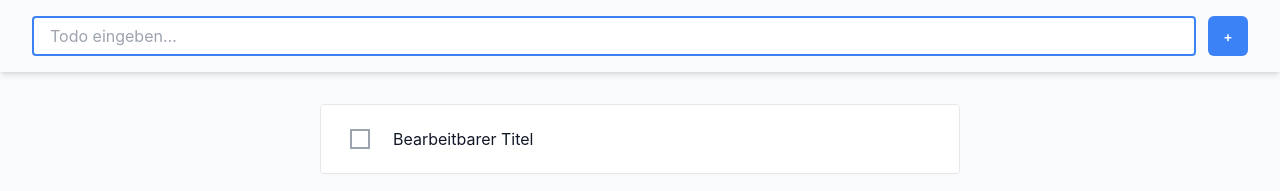
FEAT-4 – Todo bearbeiten (Inline-Editing) › Doppelklick auf Titel öffnet Inline-Input
Double-click the button "Bearbeitbarer Titel".
double_click(463, 139)  # box [393, 129, 534, 149]
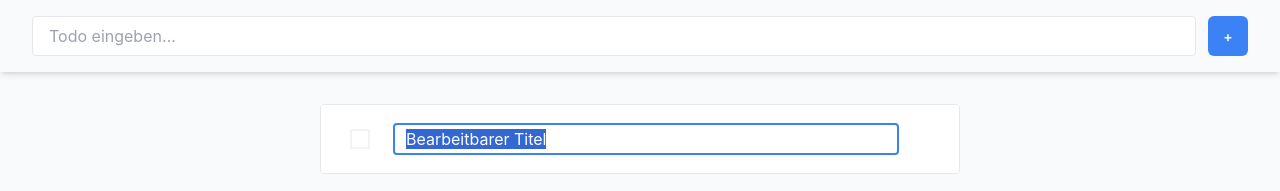
Result: the field named "todo-titel bearbeiten" is shown at [393, 123, 899, 155]
